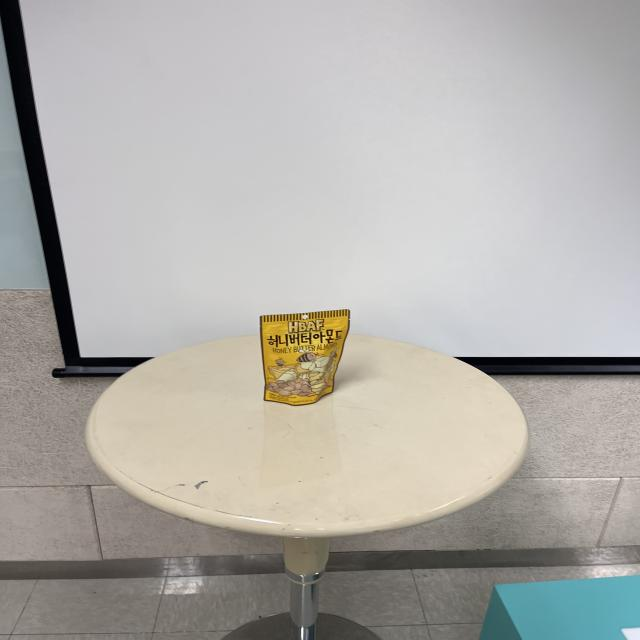honeyAmond: (254, 307, 354, 407)
